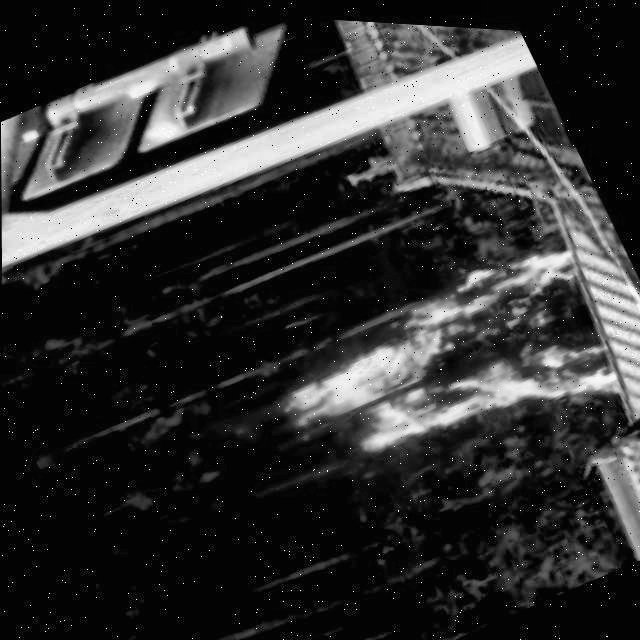Fire: (238, 202, 640, 546)
